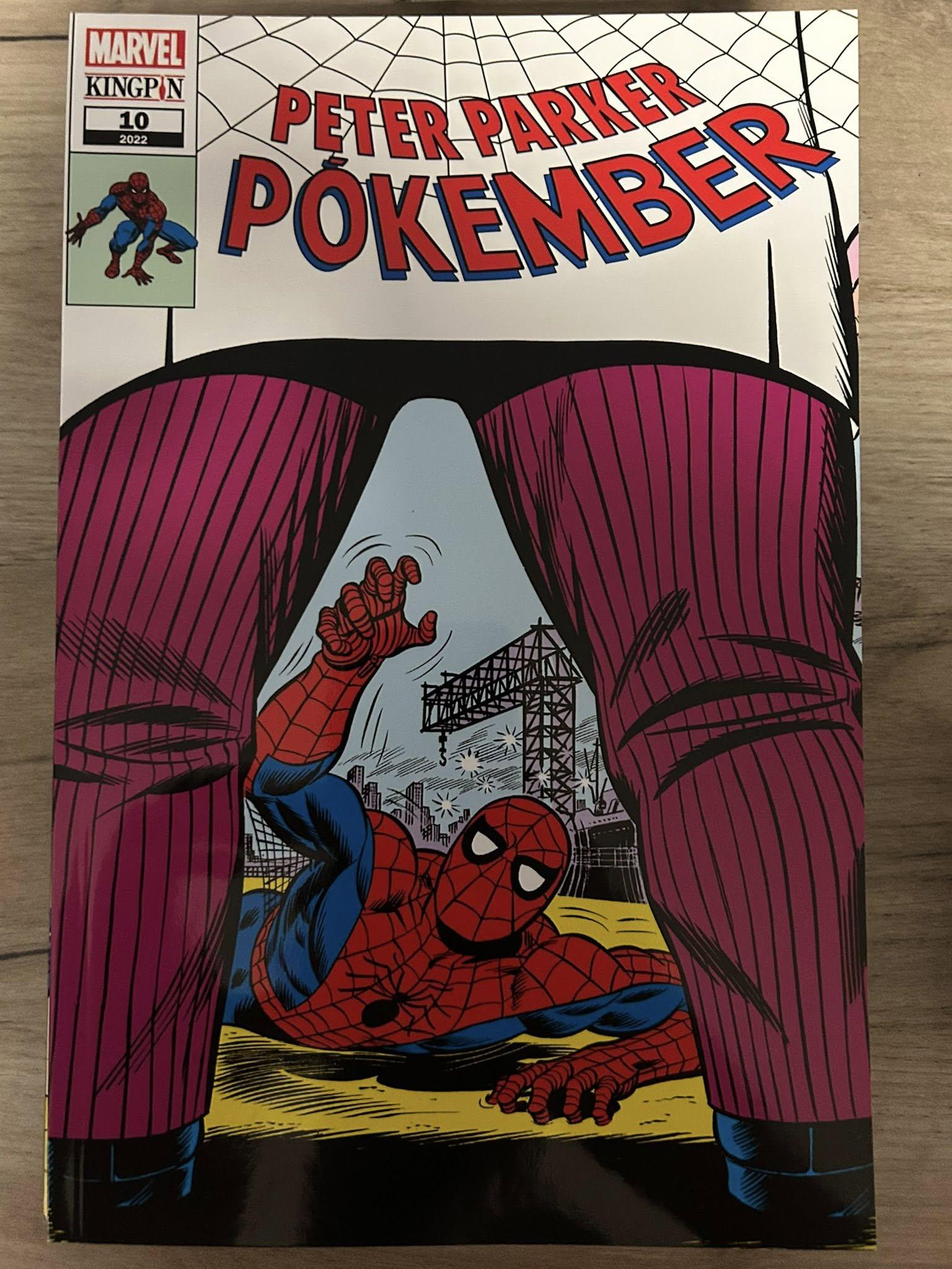comic: (47, 11, 871, 1246)
